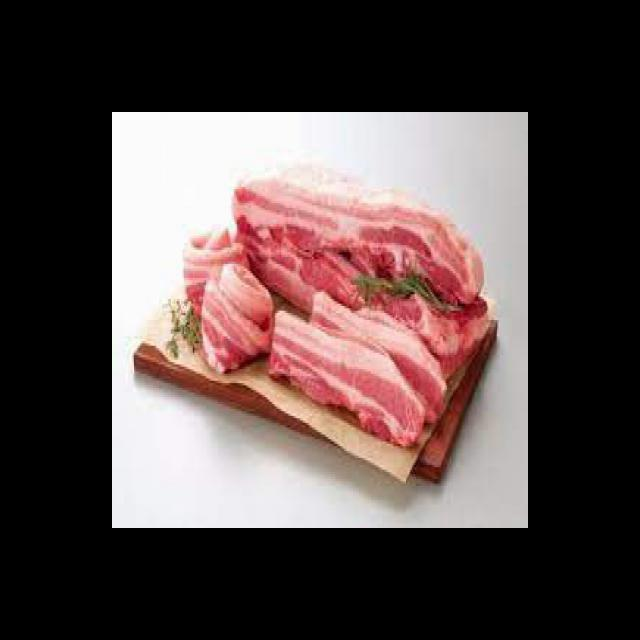pork: (178, 144, 491, 460)
